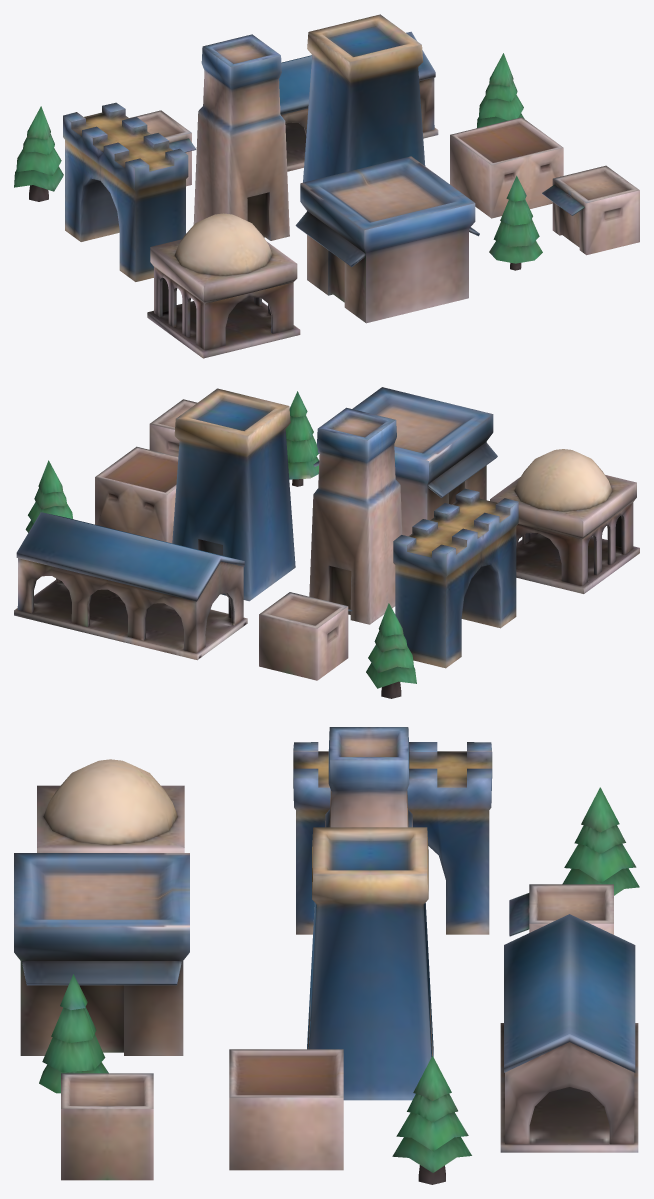
File: city_babylonian_0.glb
3 renders of one model, top to bottom at view 1: azimuth 30°, elevation 25°; view 2: azimuth 150°, elevation 25°; view 3: azimuth 270°, elevation 25°, orthographic. The views are drawn at different scales.
Parts seen in each view (by area): view 1: 3_low.087, 3_low.078, 2_low.044, 1_low.020, 2_low.043, 2_low.047, 3_low.077, 3_low.072, 3_low.069, 3_low.081, 3_low.082, 3_low.083; view 2: 3_low.072, 3_low.078, 2_low.043, 1_low.020, 2_low.044, 3_low.087, 3_low.083, 2_low.047, 3_low.069, 3_low.081, 3_low.082, 3_low.077; view 3: 3_low.087, 3_low.078, 3_low.072, 2_low.043, 2_low.047, 2_low.044, 3_low.077, 1_low.020, 3_low.082, 3_low.069, 3_low.083, 3_low.081.
Boxes of the visible parts, bbox=[...] form: 3_low.087: bbox=[295, 156, 479, 323]; 3_low.078: bbox=[303, 14, 425, 182]; 2_low.044: bbox=[147, 213, 300, 358]; 1_low.020: bbox=[193, 34, 289, 240]; 2_low.043: bbox=[63, 102, 188, 281]; 2_low.047: bbox=[450, 117, 563, 218]; 3_low.077: bbox=[542, 165, 639, 255]; 3_low.072: bbox=[279, 31, 438, 171]; 3_low.069: bbox=[14, 106, 63, 201]; 3_low.081: bbox=[489, 175, 542, 270]; 3_low.082: bbox=[477, 53, 524, 127]; 3_low.083: bbox=[129, 110, 196, 186]; 3_low.072: bbox=[14, 512, 247, 660]; 3_low.078: bbox=[172, 388, 295, 601]; 2_low.043: bbox=[393, 488, 518, 668]; 1_low.020: bbox=[309, 407, 402, 624]; 2_low.044: bbox=[490, 449, 639, 593]; 3_low.087: bbox=[313, 387, 497, 536]; 3_low.083: bbox=[259, 592, 352, 680]; 2_low.047: bbox=[95, 446, 178, 543]; 3_low.069: bbox=[366, 603, 416, 698]; 3_low.081: bbox=[285, 391, 318, 486]; 3_low.082: bbox=[25, 460, 72, 532]; 3_low.077: bbox=[149, 399, 197, 456]; 3_low.087: bbox=[14, 853, 189, 1055]; 3_low.078: bbox=[307, 827, 433, 1100]; 3_low.072: bbox=[500, 914, 638, 1152]; 2_low.043: bbox=[293, 742, 492, 934]; 2_low.047: bbox=[229, 1049, 343, 1170]; 2_low.044: bbox=[37, 759, 184, 852]; 3_low.077: bbox=[61, 1073, 153, 1180]; 1_low.020: bbox=[325, 727, 412, 827]; 3_low.082: bbox=[392, 1056, 471, 1184]; 3_low.069: bbox=[562, 787, 639, 895]; 3_low.083: bbox=[509, 884, 613, 936]; 3_low.081: bbox=[39, 974, 108, 1093].
Bounding box in the file's own units: 16.38 × 6.02 × 13.82.
Materials: 3 (3 with a texture image).
